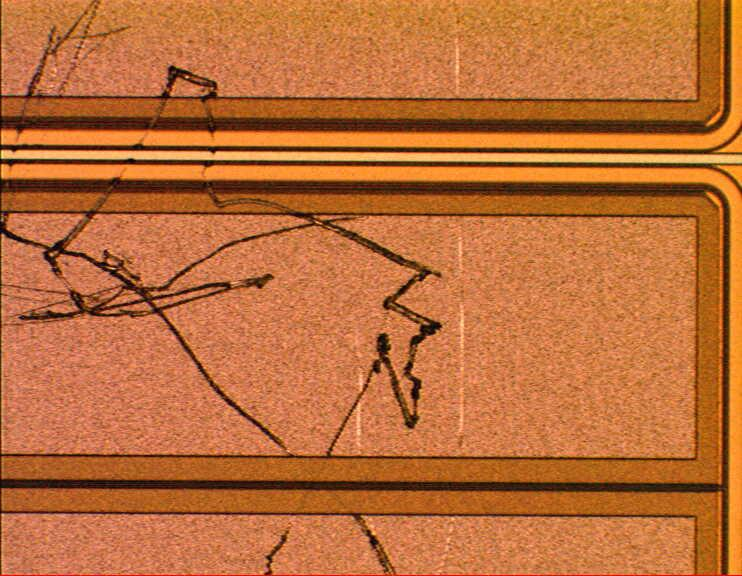SCRATCH: (1, 1, 481, 576)
